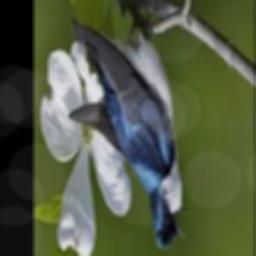Swallow: (69, 13, 188, 250)
